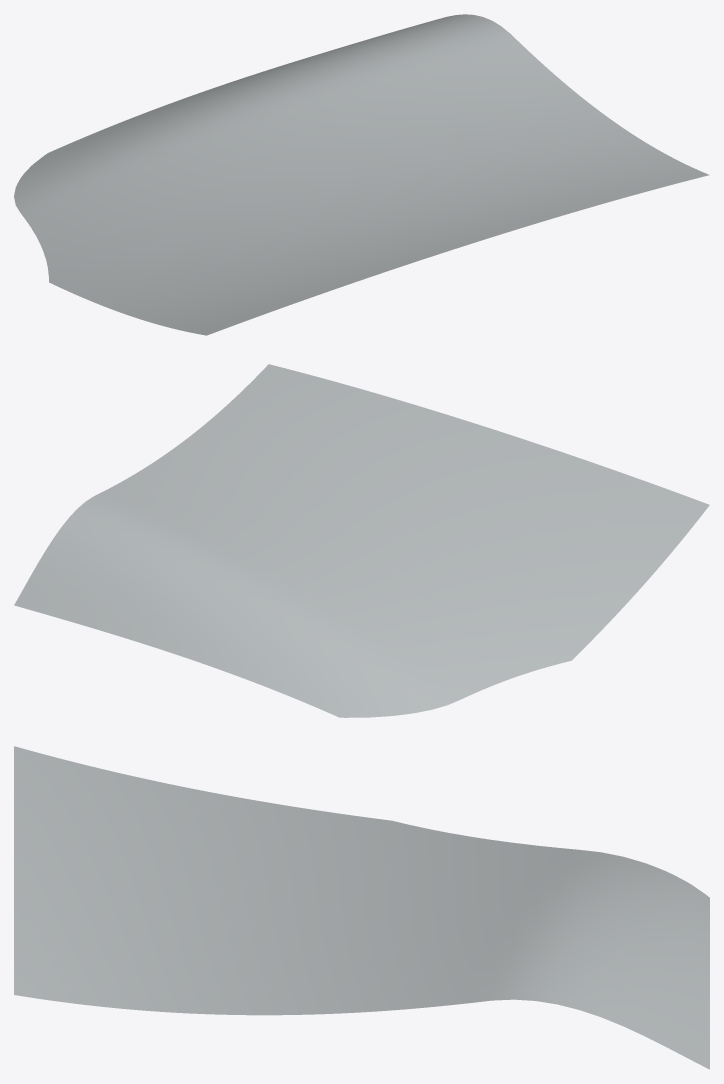
The model's file is alpine-8-3.glb.
3 renders of one model, top to bottom at view 1: azimuth 30°, elevation 25°; view 2: azimuth 150°, elevation 25°; view 3: azimuth 270°, elevation 25°, orthographic. The views are drawn at different scales.
Parts seen in each view (by area): view 1: alpine-8-3; view 2: alpine-8-3; view 3: alpine-8-3.
Boxes of the visible parts, bbox=[...] form: alpine-8-3: bbox=[14, 14, 709, 335]; alpine-8-3: bbox=[14, 364, 709, 717]; alpine-8-3: bbox=[14, 746, 709, 1069].
Bounding box in the file's own units: 256 × 48.62 × 256.
1 material, 1 textured.
